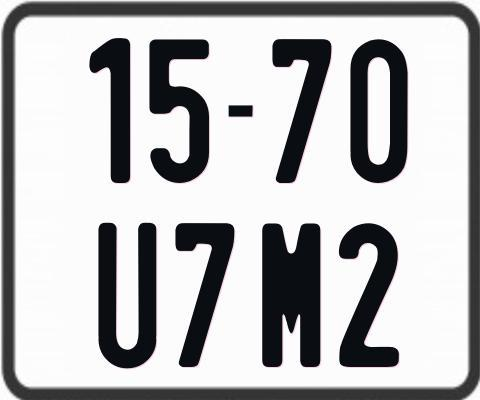0: (348, 39, 408, 184)
1: (87, 35, 132, 182)
2: (339, 222, 399, 372)
5: (149, 39, 212, 188)
7: (270, 36, 335, 182), (173, 221, 232, 369)
M: (261, 222, 324, 366)
U: (96, 223, 154, 374)
